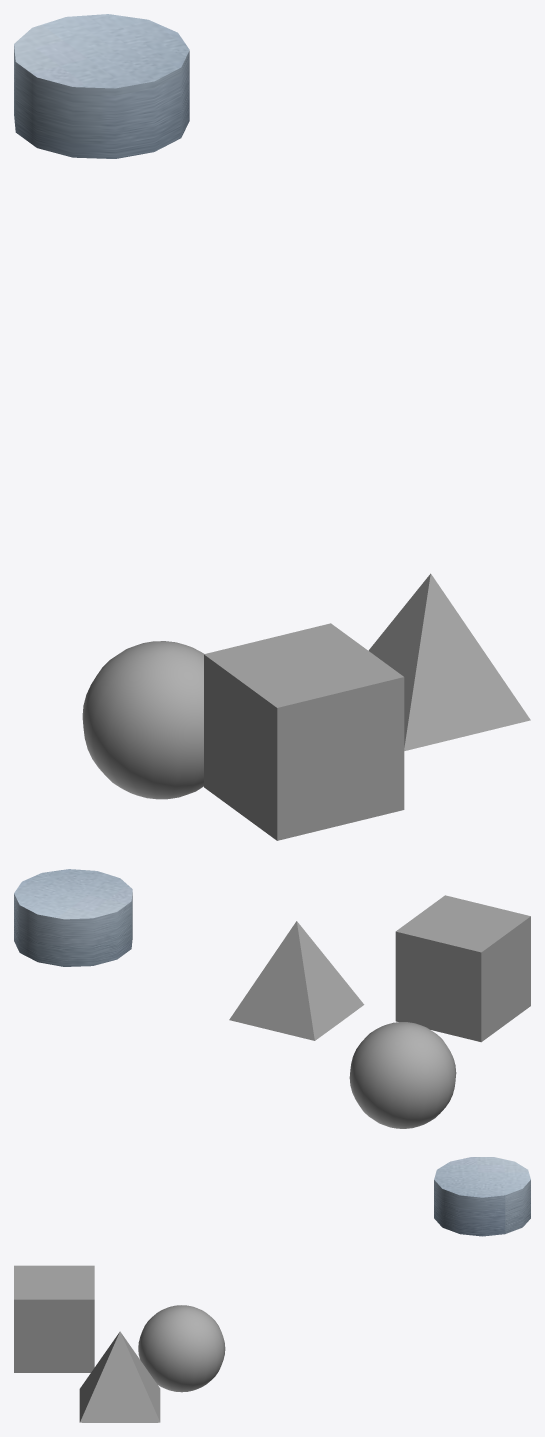
File: geometri.fbx
3 views of the same model, one above another, from view 1: azimuth 30°, elevation 25°; view 2: azimuth 150°, elevation 25°; view 3: azimuth 270°, elevation 25° (orthographic). The views are drawn at different scales.
Visible parts, largest first — view 1: pCube1, pCylinder1, pSphere1, pCube2; view 2: pCube1, pCylinder1, pSphere1, pCube2; view 3: pCube1, pCylinder1, pSphere1, pCube2.
Boxes of the visible parts, bbox=[...] form: pCube1: bbox=[204, 623, 404, 840]; pCylinder1: bbox=[14, 14, 189, 158]; pSphere1: bbox=[82, 641, 203, 799]; pCube2: bbox=[368, 573, 530, 750]; pCube1: bbox=[395, 895, 530, 1042]; pCylinder1: bbox=[14, 869, 132, 966]; pSphere1: bbox=[349, 1022, 456, 1128]; pCube2: bbox=[229, 921, 364, 1040]; pCube1: bbox=[14, 1265, 94, 1372]; pCylinder1: bbox=[434, 1157, 530, 1236]; pSphere1: bbox=[138, 1305, 225, 1392]; pCube2: bbox=[79, 1331, 160, 1422].
Size of the model in its own units: 2.82 by 3.67 by 6.41.
